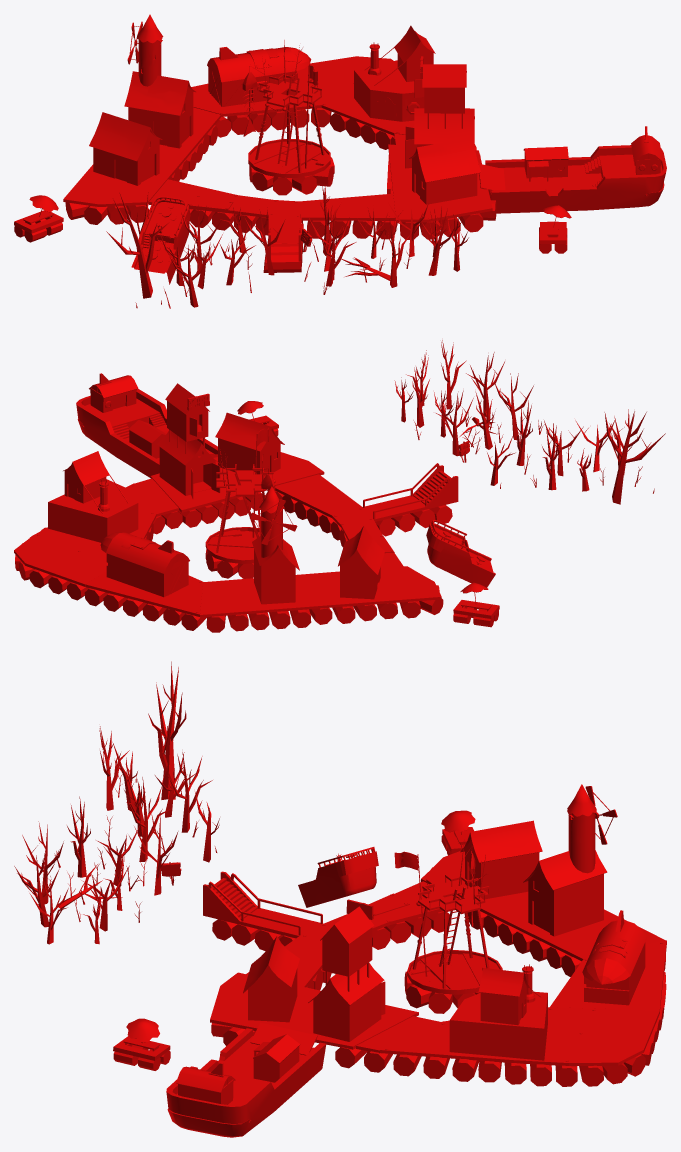
File: Neighborhood_BearTownLocked.glb
The picture shows the model from 3 angles, top to bottom: view 1: azimuth 30°, elevation 25°; view 2: azimuth 150°, elevation 25°; view 3: azimuth 270°, elevation 25°; orthographic projection. The views are drawn at different scales.
Visible parts, largest first — view 1: Neighborhood_BearTownLocked_polySurface240; view 2: Neighborhood_BearTownLocked_polySurface240; view 3: Neighborhood_BearTownLocked_polySurface240.
Boxes of the visible parts, bbox=[...] form: Neighborhood_BearTownLocked_polySurface240: bbox=[14, 14, 666, 308]; Neighborhood_BearTownLocked_polySurface240: bbox=[14, 340, 665, 632]; Neighborhood_BearTownLocked_polySurface240: bbox=[14, 661, 666, 1137].
Size of the model in its own units: 64.86 by 17.08 by 54.58.
